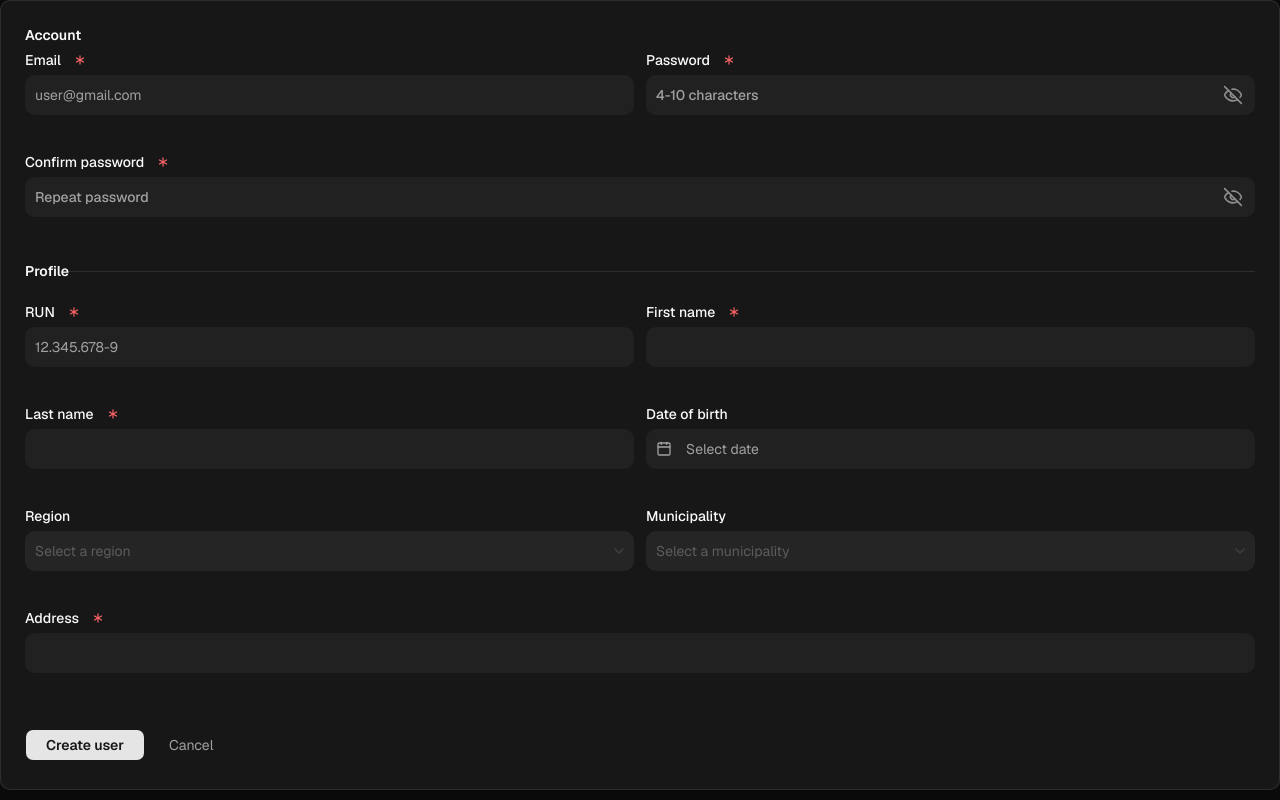
NewUserForm › email inválido muestra error de campo
Type "not-an-email" into the field with placeholder "user@gmail.com" at {"x": 330, "y": 95}, box [25,75,634,115]
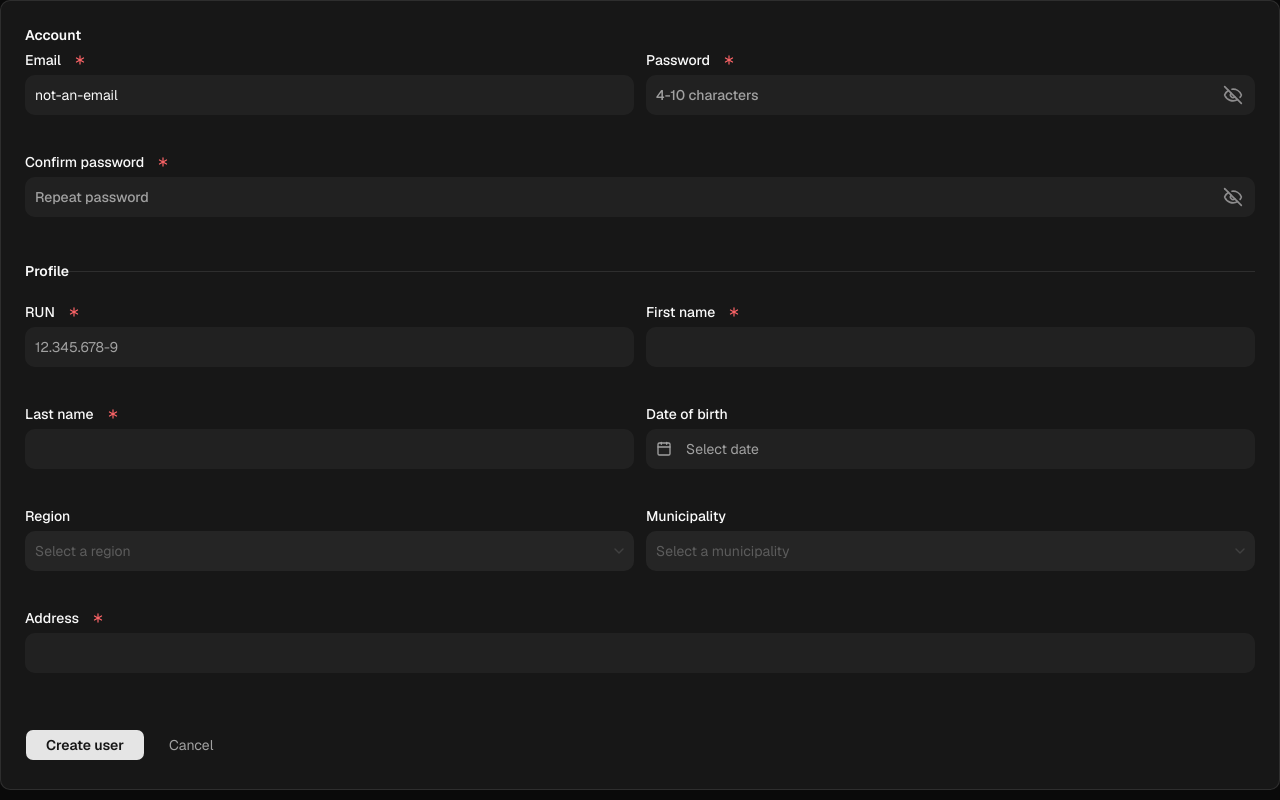
Click the button "Create user" at {"x": 85, "y": 745}, box [25,729,145,761]
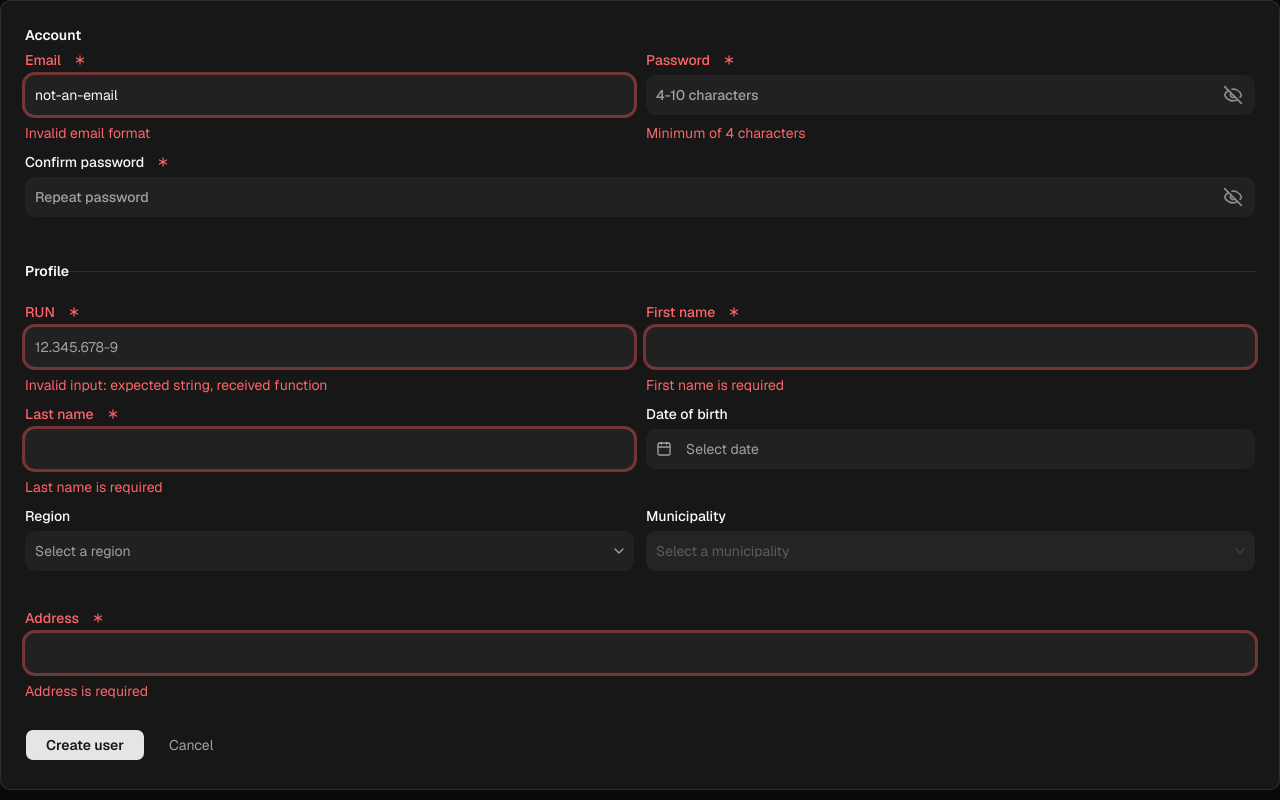
Result: the text "Invalid email format" is shown at [25,124,150,142]
